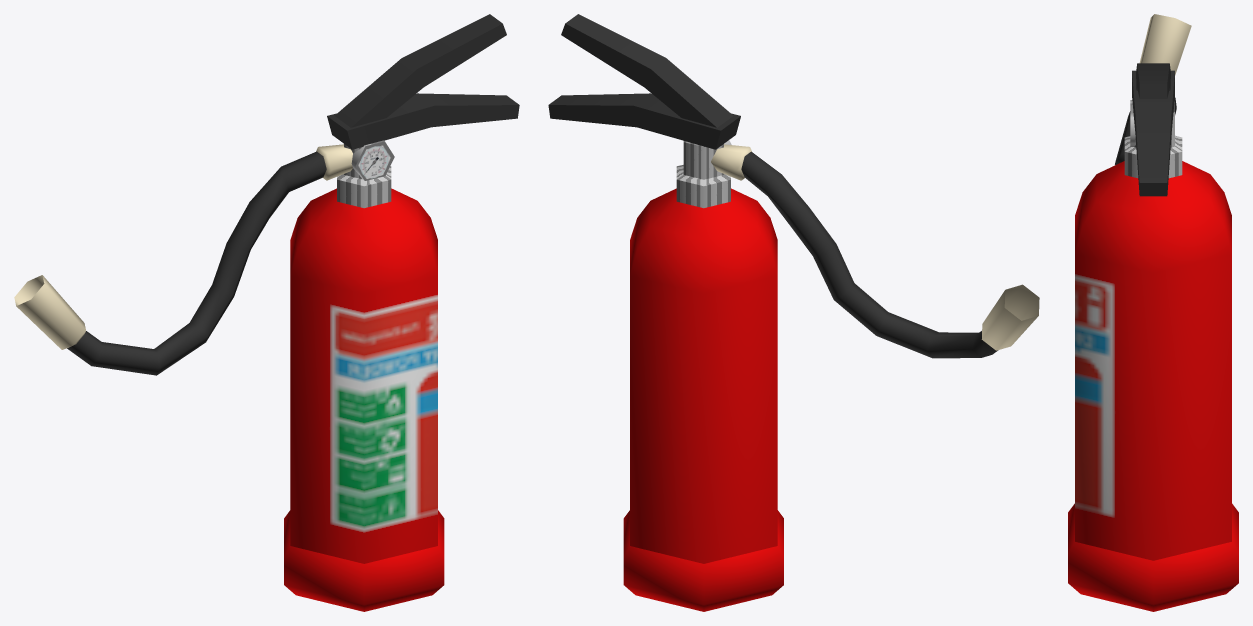
Rendered from fireext.FBX.
3 renders of one model, left to right at view 1: azimuth 30°, elevation 25°; view 2: azimuth 150°, elevation 25°; view 3: azimuth 270°, elevation 25°, orthographic. The views are drawn at different scales.
Parts seen in each view (by area): view 1: fireext; view 2: fireext; view 3: fireext.
Boxes of the visible parts, x1,y1,x2,y2 form: fireext: (14, 14, 519, 611); fireext: (548, 14, 1039, 611); fireext: (1068, 14, 1238, 611).
Size of the model in its own units: 240 by 246 by 67.89.
